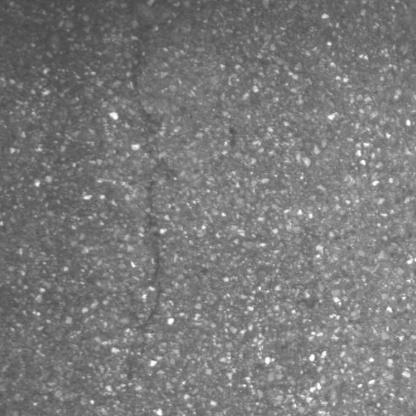Cracks: (135, 243, 168, 334), (142, 173, 160, 237)
